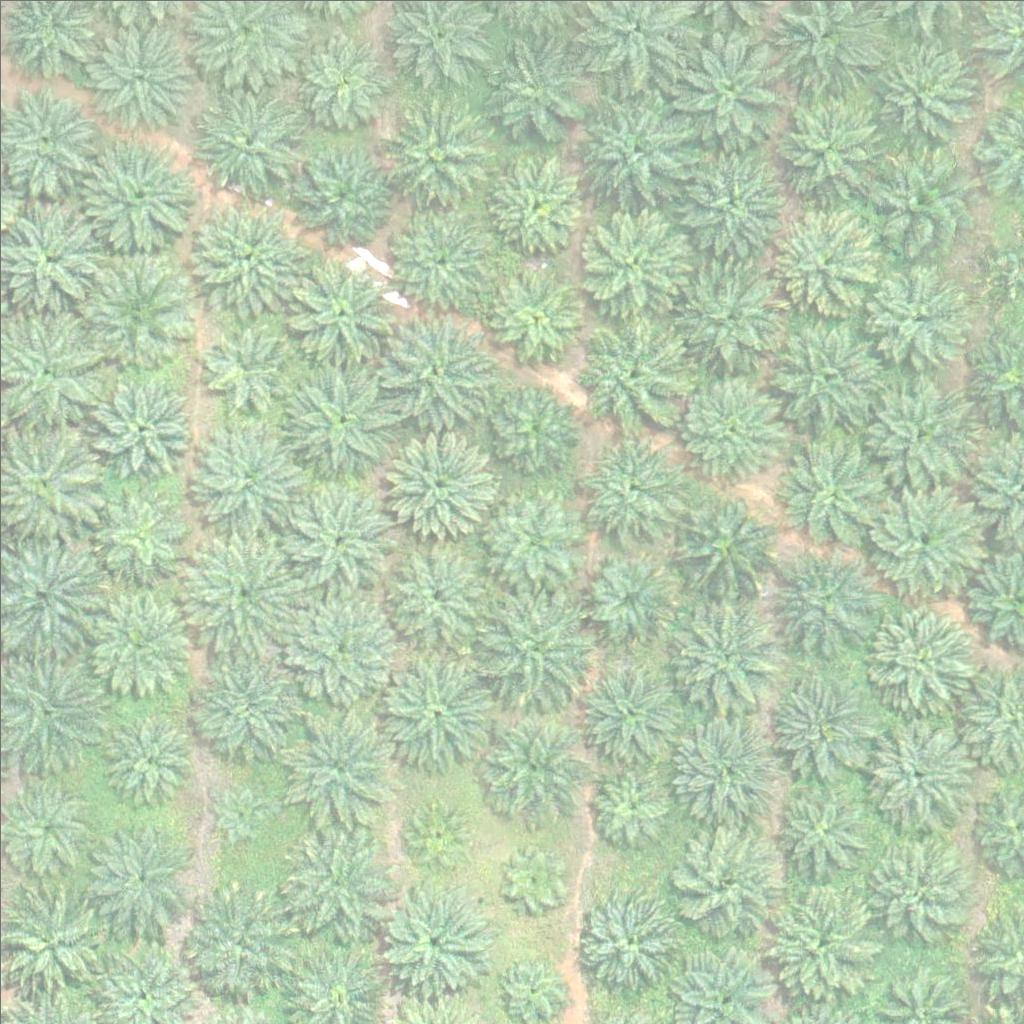Kelapa_Sawit: (82, 815, 195, 929), (663, 487, 776, 601), (778, 435, 891, 549), (671, 369, 784, 483), (573, 316, 686, 430), (576, 205, 689, 319), (475, 33, 588, 147), (285, 714, 398, 827), (281, 591, 394, 704), (376, 880, 489, 993), (379, 654, 492, 767), (671, 825, 784, 938), (667, 712, 780, 825), (666, 597, 779, 710), (766, 887, 879, 1000), (764, 767, 877, 880), (863, 139, 976, 252), (675, 257, 788, 370), (379, 424, 492, 537), (286, 479, 399, 592), (283, 365, 396, 478), (282, 260, 395, 373), (188, 200, 301, 313), (78, 141, 191, 254), (82, 19, 195, 132), (191, 84, 304, 197), (578, 90, 691, 203), (183, 880, 295, 994), (769, 547, 881, 661), (859, 716, 971, 830), (863, 595, 975, 709), (382, 98, 494, 212), (82, 583, 194, 696), (188, 649, 300, 762), (186, 536, 298, 649), (277, 825, 389, 938), (380, 535, 492, 648), (476, 708, 588, 821), (477, 586, 589, 699), (568, 881, 680, 994), (574, 650, 686, 763), (764, 665, 876, 778), (858, 833, 970, 946), (868, 481, 980, 594), (863, 377, 975, 490), (862, 259, 974, 372), (767, 318, 879, 431), (766, 203, 878, 316), (669, 150, 781, 263), (382, 311, 494, 424), (384, 201, 496, 314), (192, 418, 304, 531), (80, 255, 192, 368), (671, 31, 783, 144), (771, 87, 883, 200), (578, 545, 678, 646), (478, 490, 578, 591), (477, 380, 577, 481), (293, 145, 393, 246), (193, 312, 293, 413), (89, 490, 189, 591), (93, 379, 193, 480), (876, 40, 976, 141), (98, 710, 198, 810), (575, 441, 675, 541), (479, 266, 579, 366), (483, 154, 583, 254), (292, 27, 392, 127), (586, 765, 674, 853), (405, 803, 468, 866), (497, 957, 560, 1020), (502, 846, 565, 909), (209, 783, 271, 846)
